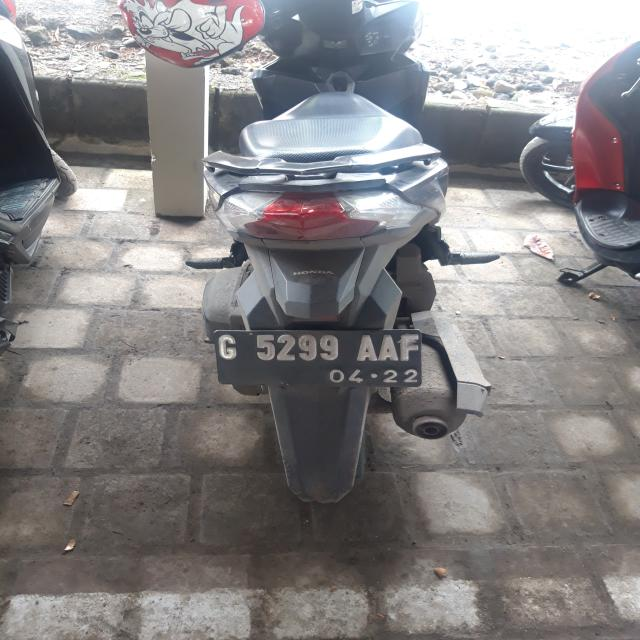plate: (211, 331, 425, 390)
